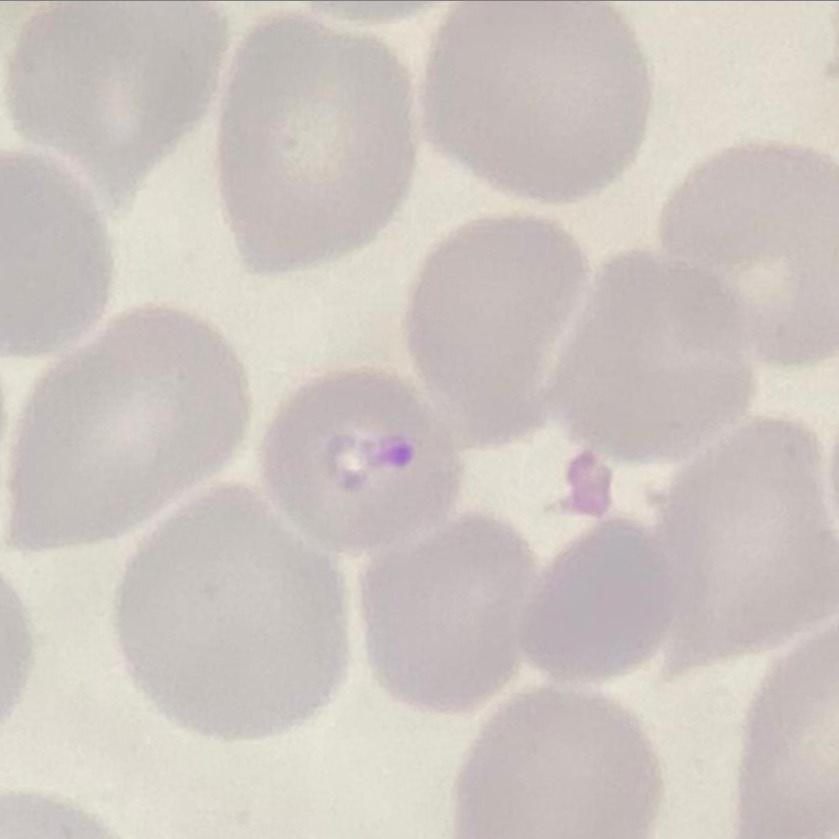Infected: (263, 364, 463, 555)
Uninfected: (0, 300, 257, 544), (115, 482, 350, 743), (218, 14, 413, 274), (5, 0, 227, 220), (655, 417, 839, 679), (425, 0, 653, 204), (542, 247, 754, 459), (665, 142, 839, 367), (410, 214, 586, 429), (358, 507, 539, 709), (457, 687, 661, 839), (520, 514, 677, 687)
